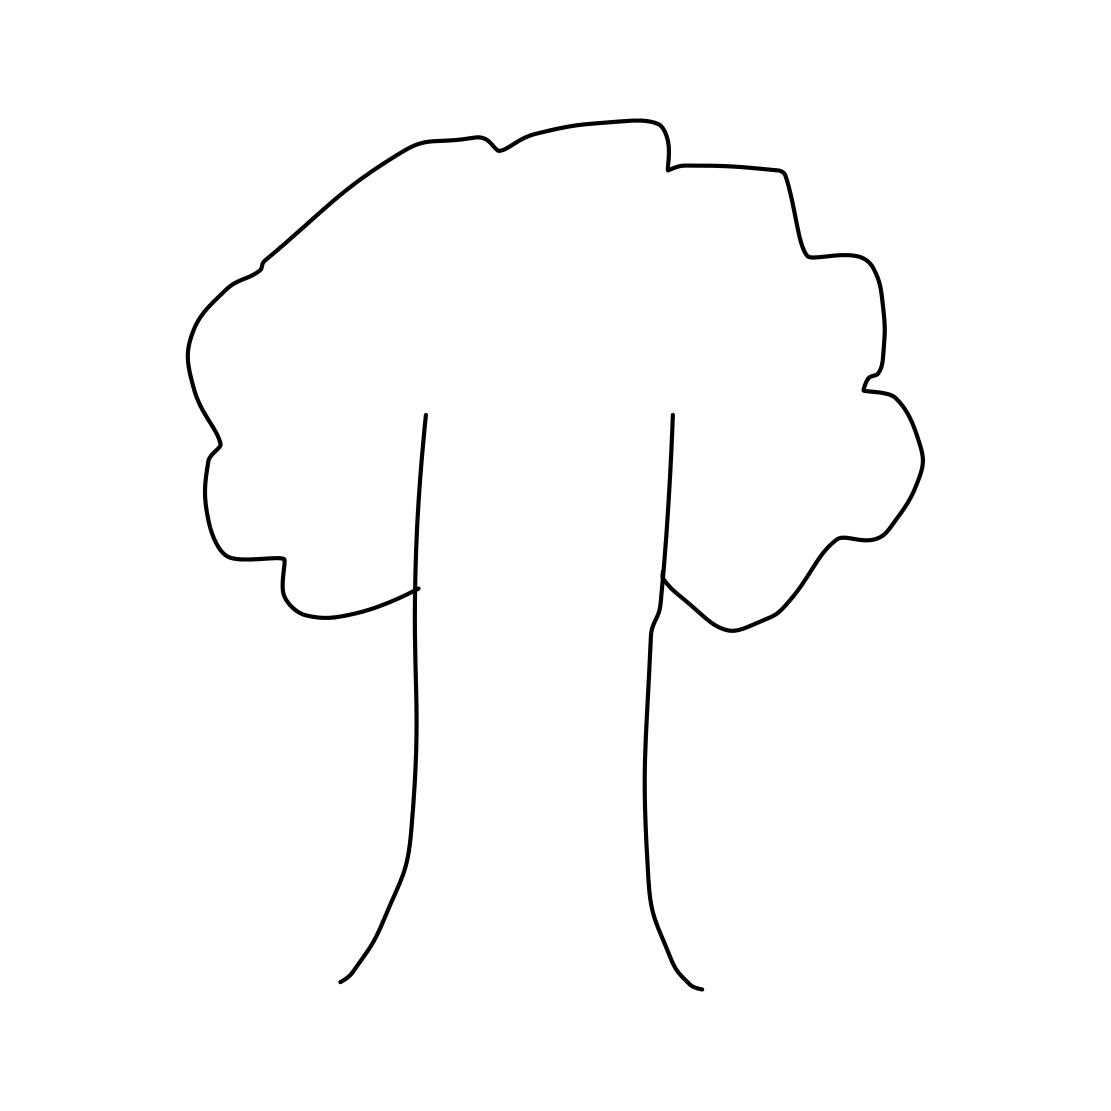Tree: (159, 65, 932, 1005)
